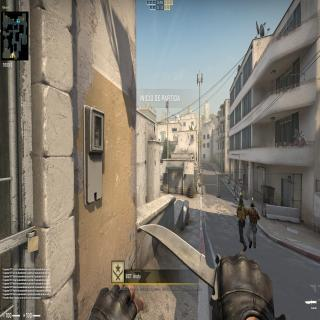T-Head: (250, 203, 254, 209), (240, 197, 243, 204)
